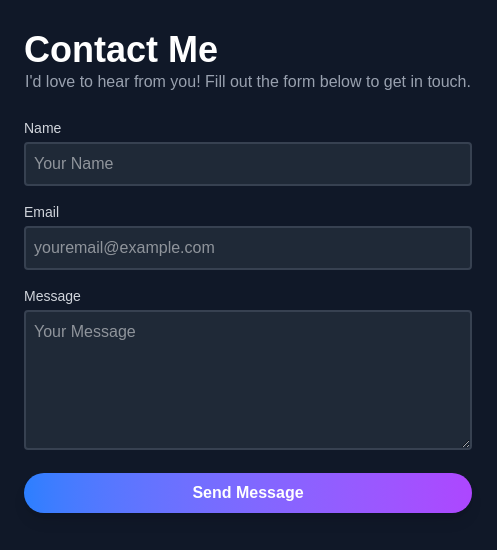
Scenario: submits form and shows success message
Type "Alice" into the field labelled "Name" at (248, 164), box [24,142,472,186]
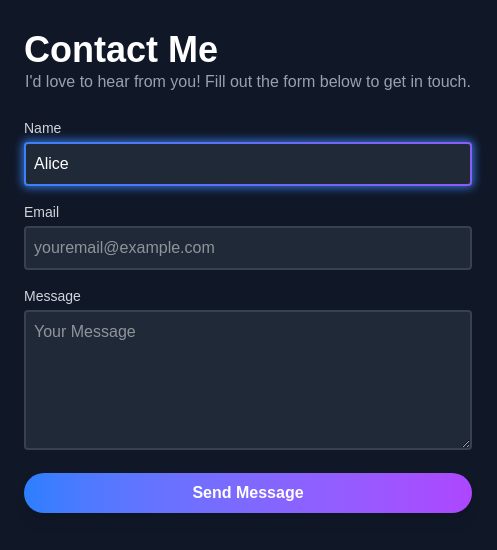
Type "alice@example.com" into the field labelled "Email" at (248, 248), box [24,226,472,270]
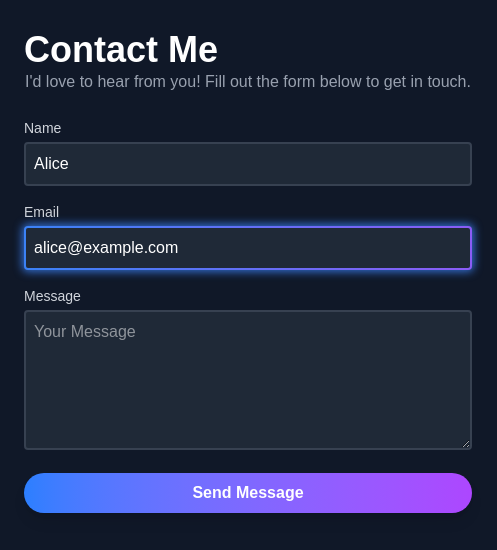
Type "Hello, this is a test message." into the text box labelled "Message" at (248, 380), box [24,310,472,450]
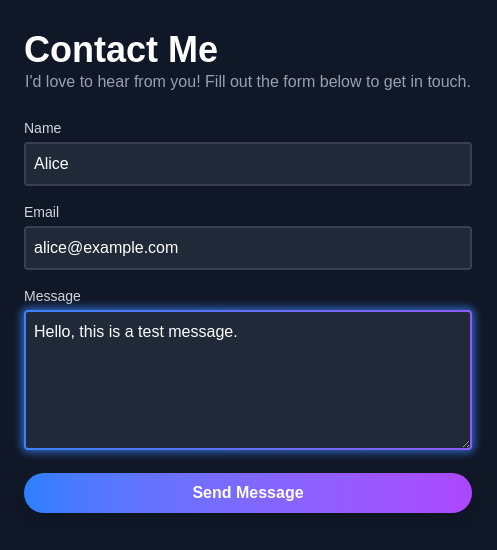
Click the button "Send Message" at (248, 492), box [24,472,472,512]
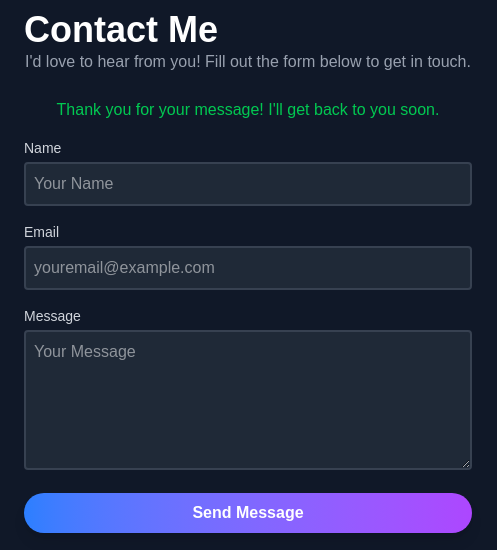
Result: the text "Thank you for your message! I'll get back to you soon." is shown at [24,98,472,122]
Result: the field labelled "Name" is empty at [24,162,472,206]
Result: the field labelled "Email" is empty at [24,246,472,290]
